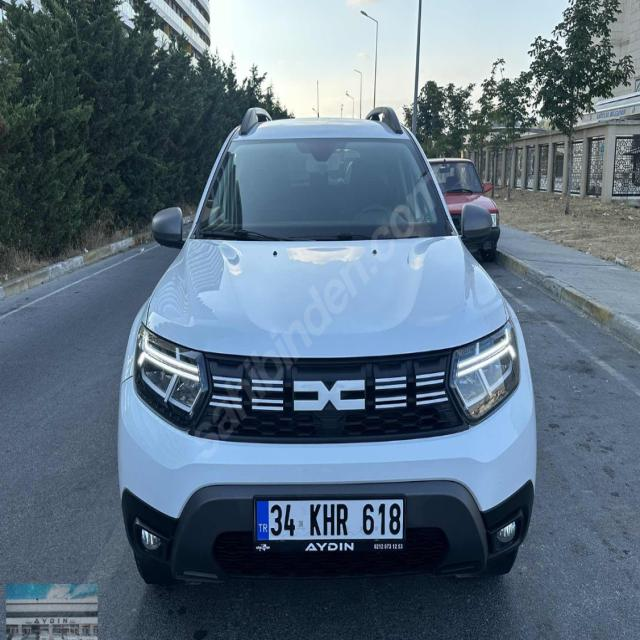dacia: (291, 373, 368, 417)
